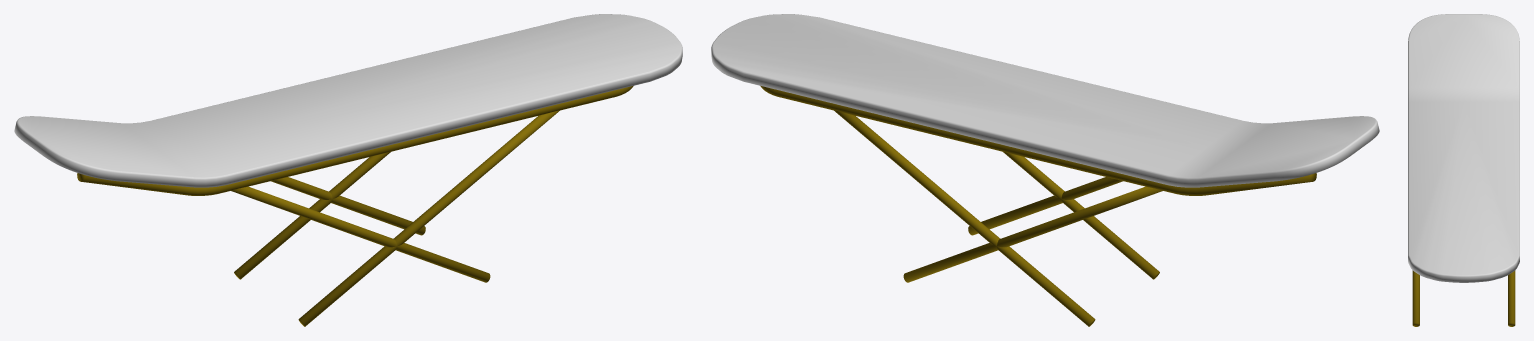
File: Койко норм.fbx
3 views of the same model, side by side, from view 1: azimuth 30°, elevation 25°; view 2: azimuth 150°, elevation 25°; view 3: azimuth 270°, elevation 25° (orthographic). The views are drawn at different scales.
Visible parts, largest first — view 1: Cube; view 2: Cube; view 3: Cube.
Boxes of the visible parts, x1,y1,x2,y2 form: Cube: (14, 14, 682, 326); Cube: (711, 14, 1379, 326); Cube: (1408, 14, 1519, 326).
Bounding box in the file's own units: 52.63 × 255 × 84.58.
